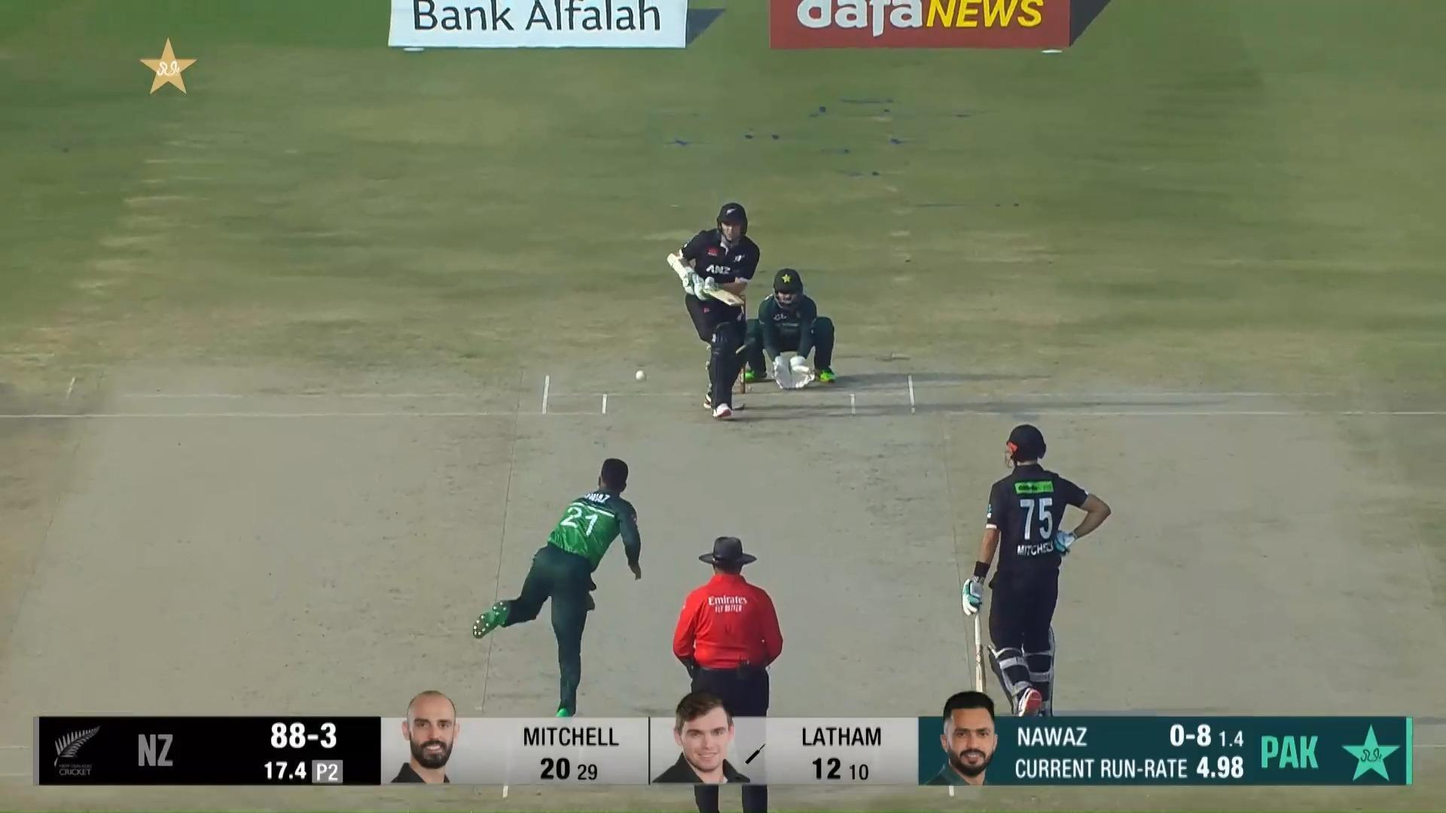BM 1: (667, 201, 761, 420)
BO: (470, 454, 644, 734)
